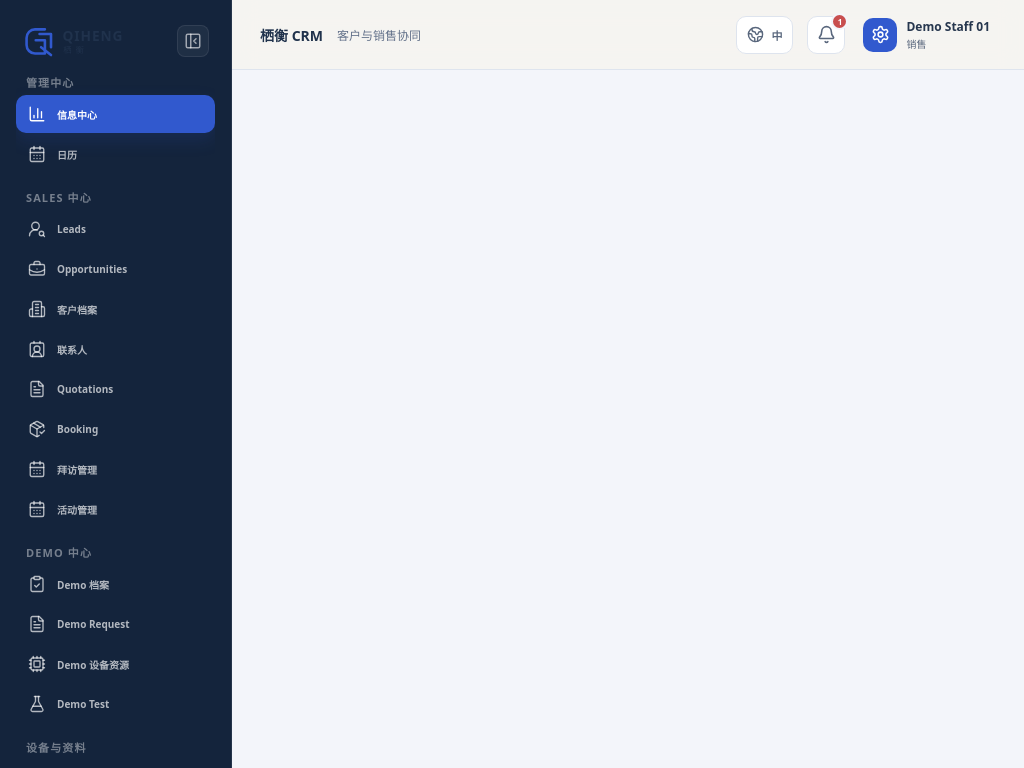
Test: AppShell in Frappe mode › keeps a failed notification unread and shows the request error without closing the panel
Click the button with test id "notification-button" at coordinates (826, 34), box [808,16,846,54]
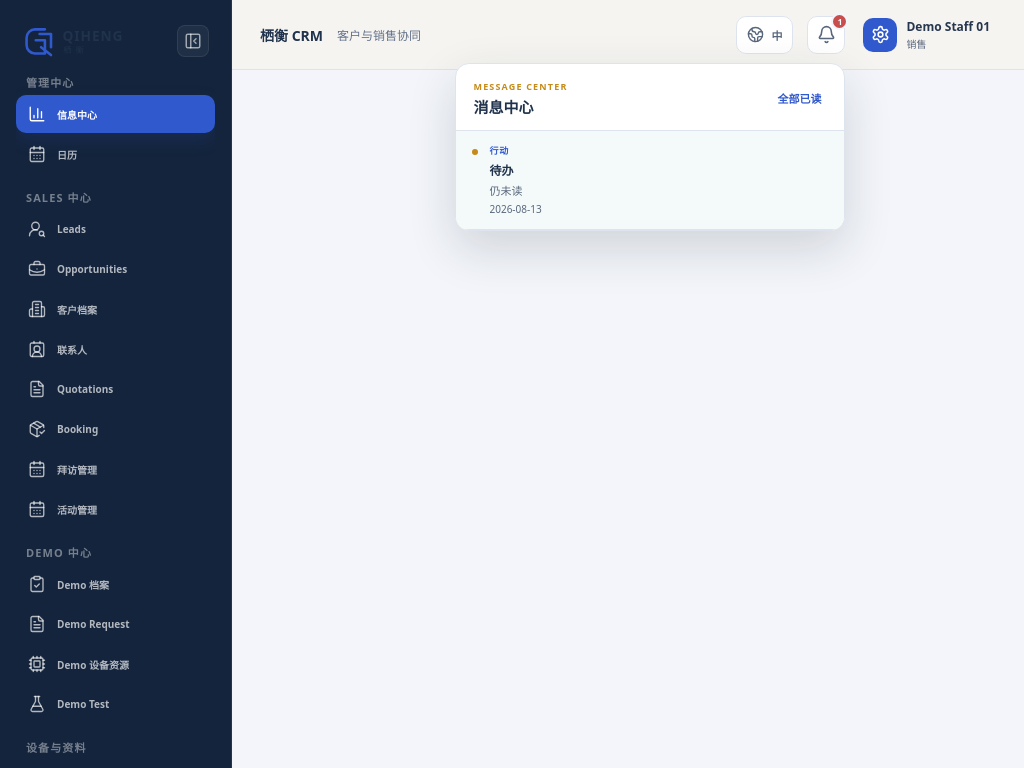
Click the button "行动 待办 仍未读 2026-08-13" at coordinates (506, 190), box [456,130,844,230]
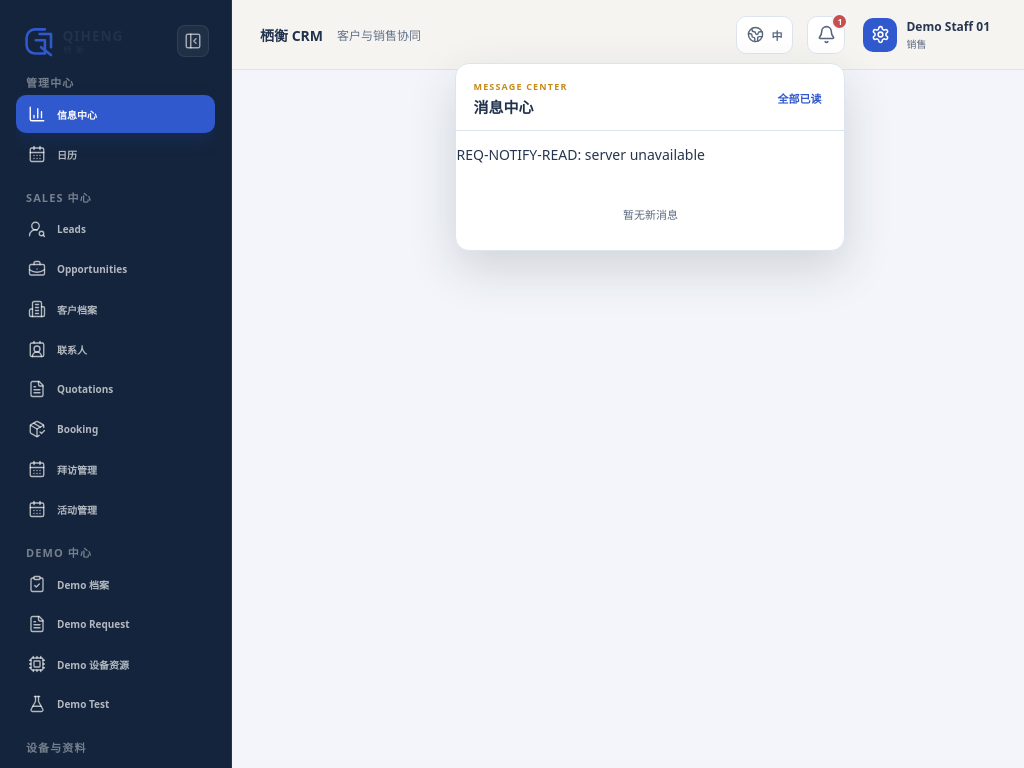
Check: the element with test id "notification-center" is shown, box [456,62,846,250]
Check: the message "REQ-NOTIFY-READ: server unavailable" is shown, box [456,144,705,164]
